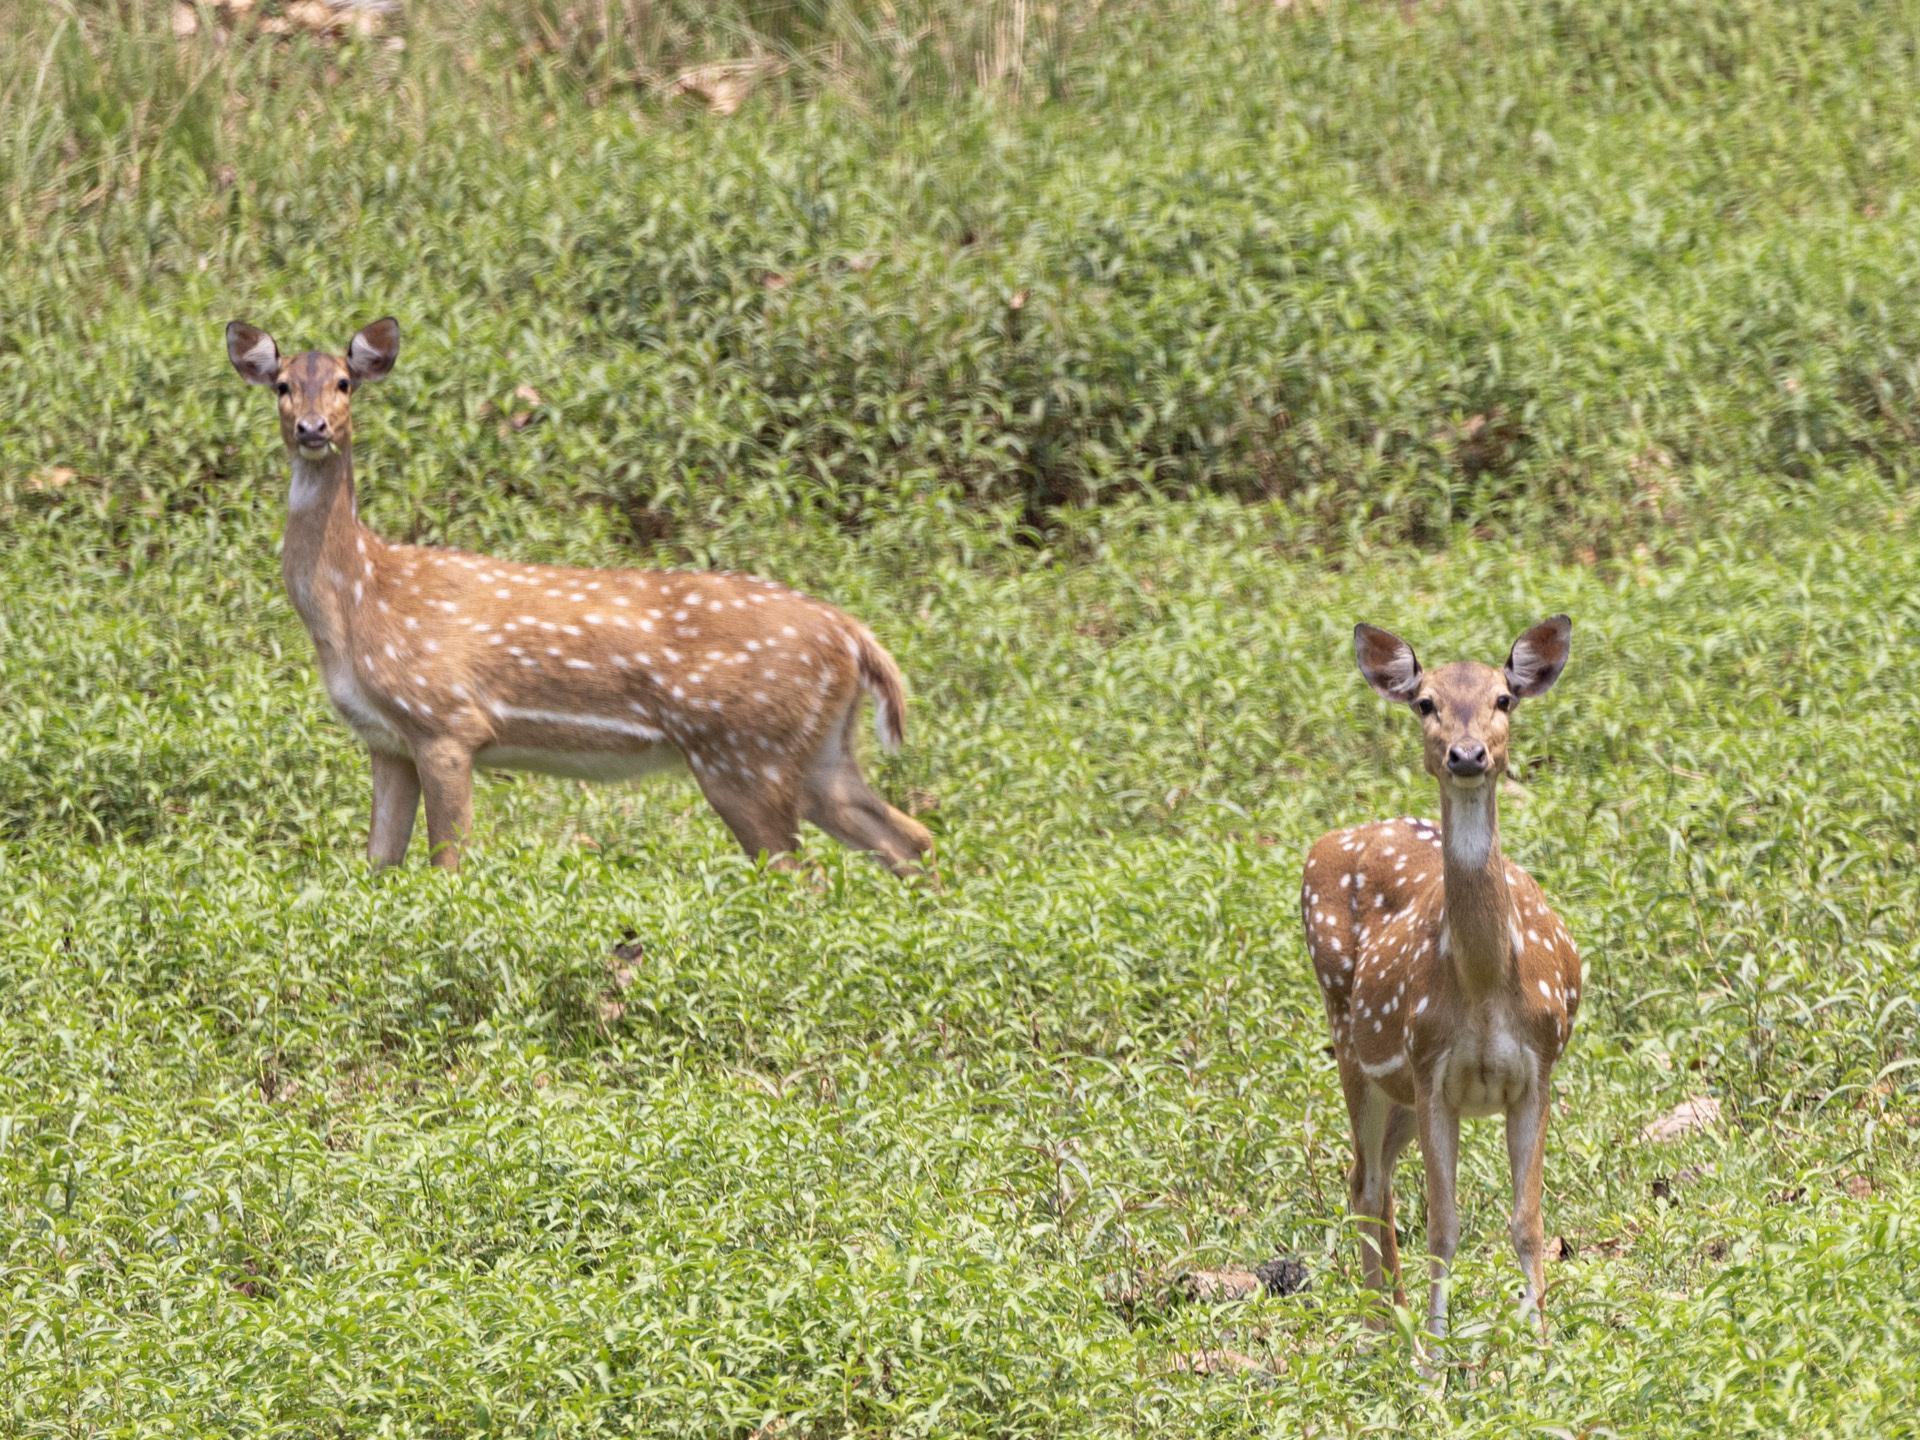Deer: (227, 318, 931, 870), (1302, 616, 1580, 1336)
